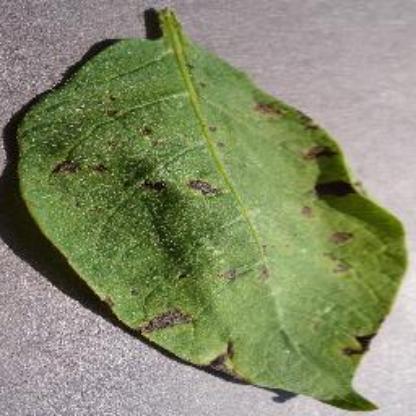Early-Blight: (18, 11, 398, 409)
